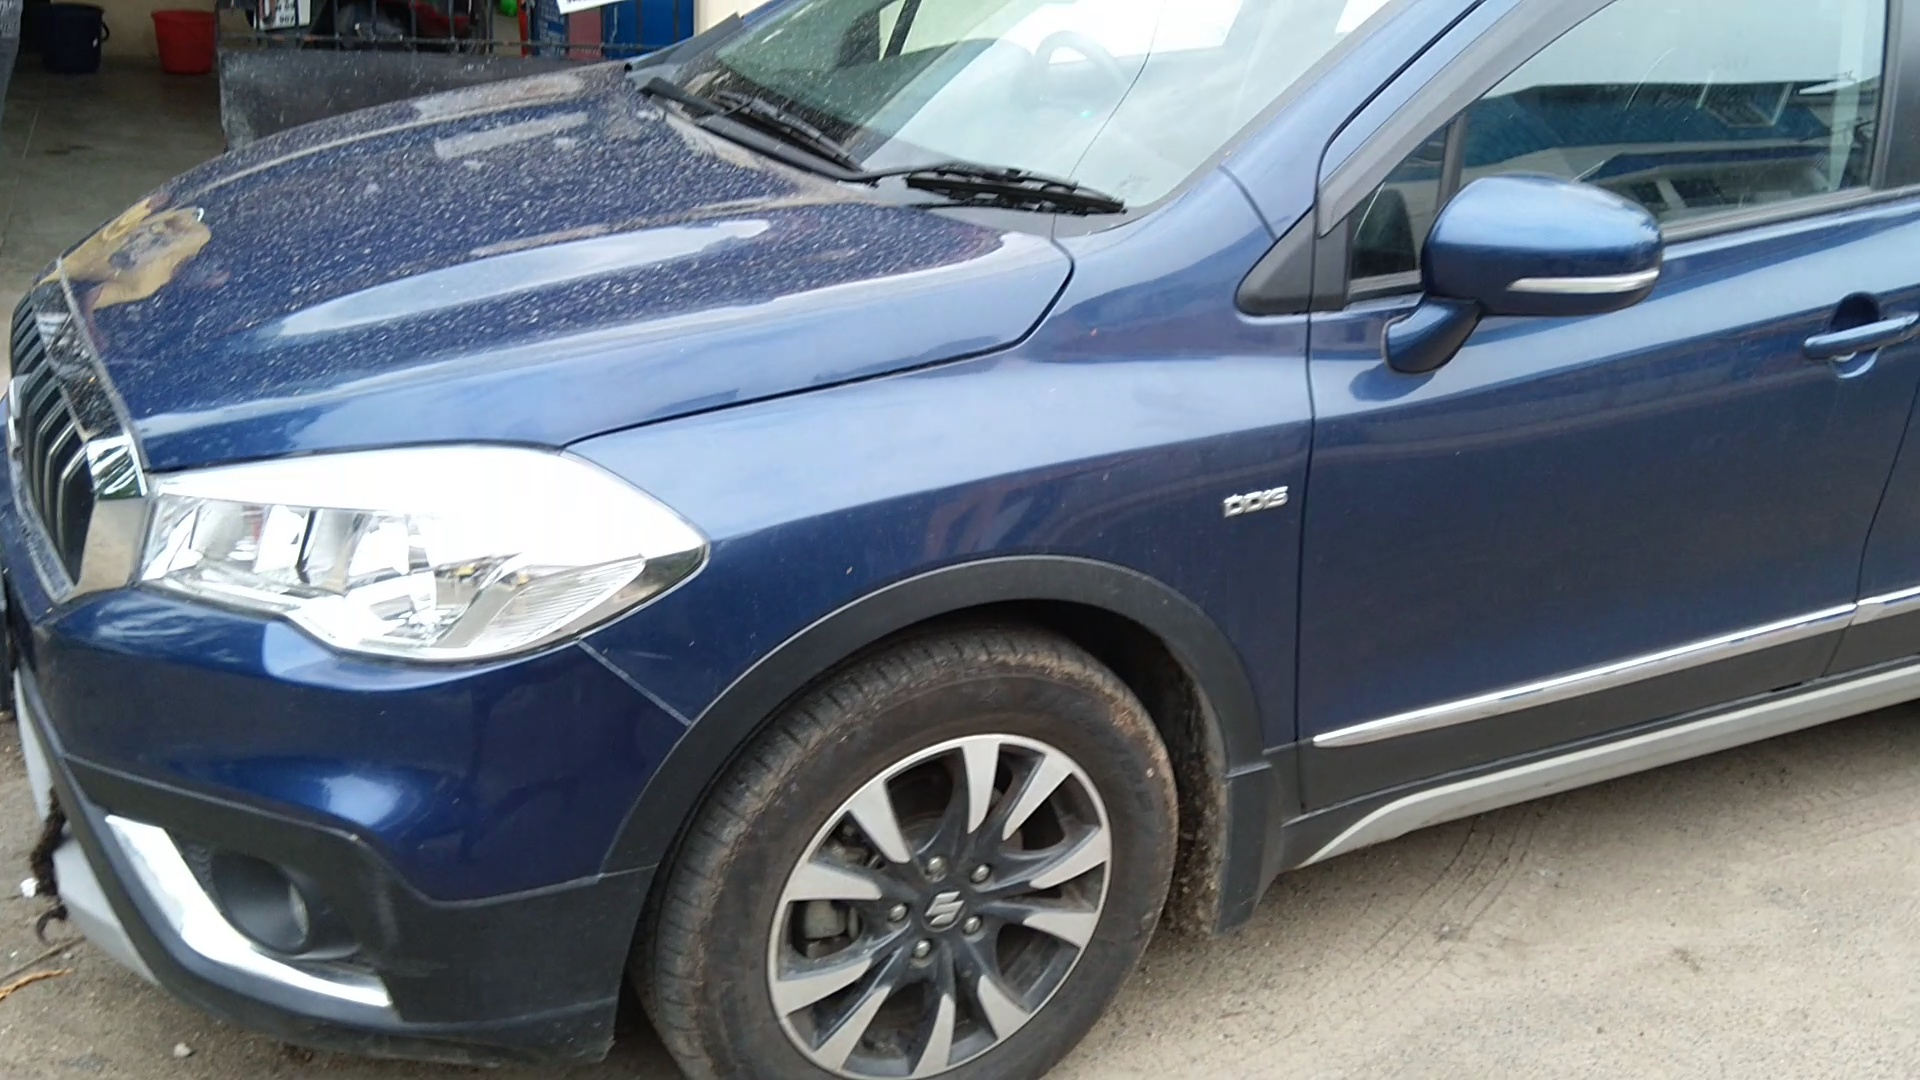alloy_wheel: (705, 640, 1179, 1080)
headlamp: (135, 419, 717, 699)
ovr_mirror: (1420, 161, 1679, 340)
